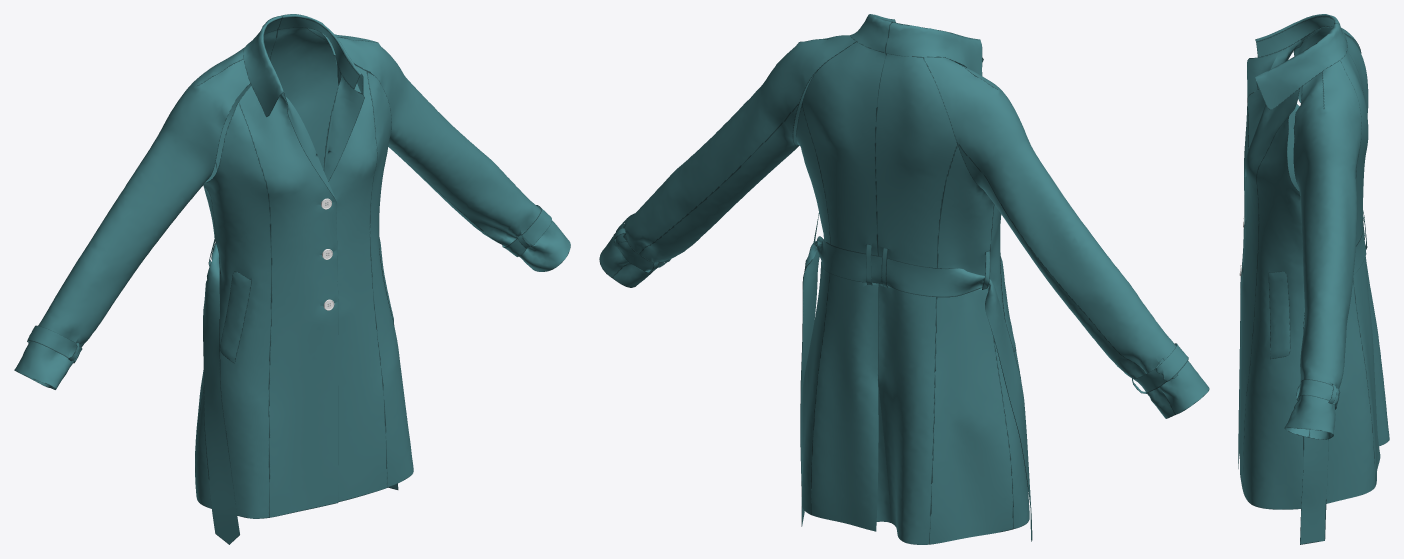
File: trench.glb
3 views of the same model, side by side, from view 1: azimuth 30°, elevation 25°; view 2: azimuth 150°, elevation 25°; view 3: azimuth 270°, elevation 25° (orthographic). The views are drawn at different scales.
Parts seen in each view (by area): view 1: Cloth; view 2: Cloth; view 3: Cloth.
Boxes of the visible parts, x1=… form: Cloth: x1=14, y1=14, x2=570, y2=544; Cloth: x1=599, y1=14, x2=1209, y2=544; Cloth: x1=1238, y1=14, x2=1389, y2=544.
Bounding box in the file's own units: 1.12 × 0.9468 × 0.2729.
2 materials, 2 textured.
